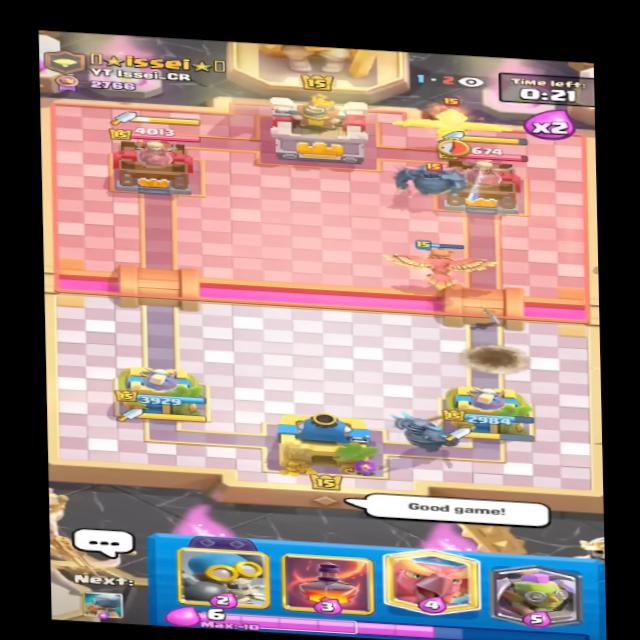pekka: (392, 146, 476, 201)
phoenix: (394, 94, 520, 149)
